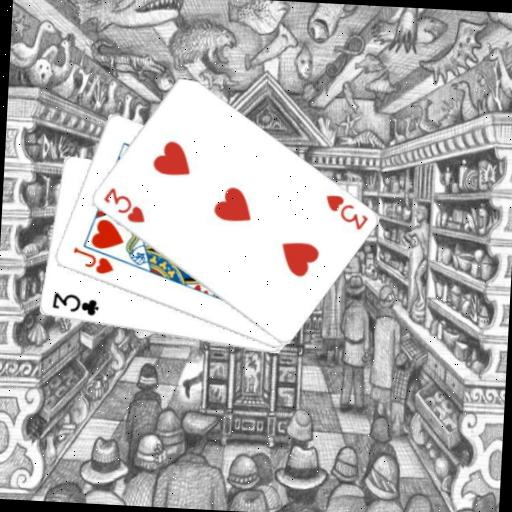3C: (49, 289, 101, 318)
3H: (321, 192, 371, 233), (99, 184, 148, 225)
JH: (69, 245, 117, 277)
